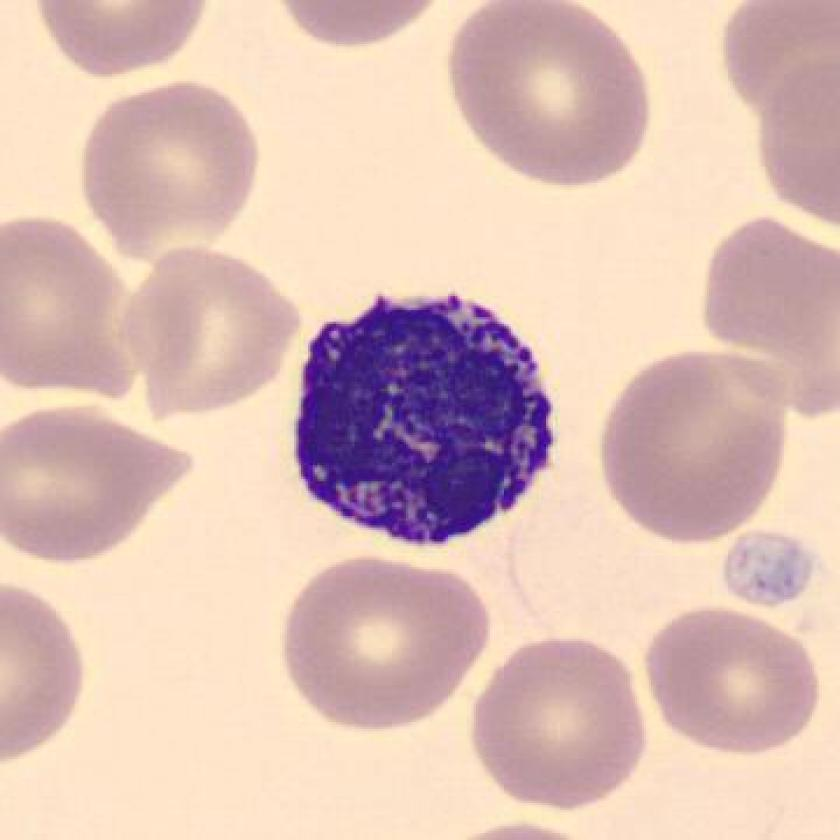basophil: (281, 263, 559, 566)
